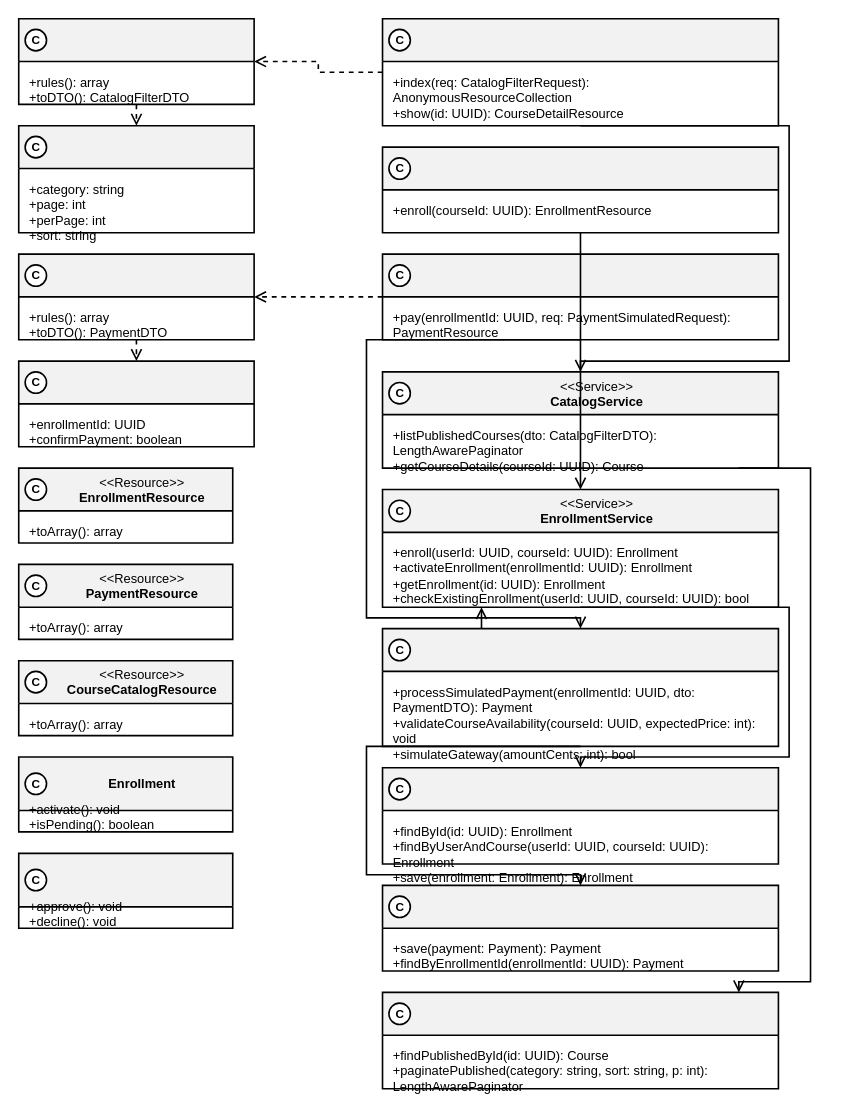
The diagram is 841 pixels wide and 1114 high, and some of its shapes have lost their labels. The box of each missing label's shape, as (x1, y1, x2, y2) in pixels:
<<Controller>> CatalogController: (381, 17, 779, 126)
<<Controller>> EnrollmentController: (381, 146, 779, 233)
<<Controller>> PaymentController: (381, 253, 779, 340)
<<DTO>> CatalogFilterDTO: (17, 124, 254, 233)
<<DTO>> PaymentDTO: (17, 360, 254, 447)
<<FormRequest>> CatalogFilterRequest: (17, 17, 254, 105)
<<FormRequest>> PaymentSimulatedRequest: (17, 253, 254, 340)
<<Repository>> CourseRepository [Área B]: (381, 991, 779, 1089)
<<Repository>> EnrollmentRepository: (381, 766, 779, 864)
<<Repository>> PaymentRepository: (381, 884, 779, 971)
<<Service>> PaymentService: (381, 627, 779, 747)
Payment: (17, 852, 233, 929)
